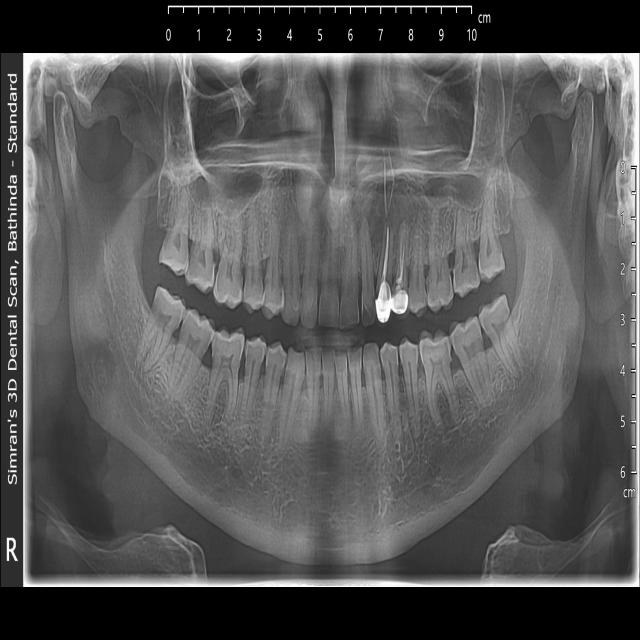Crown: (376, 281, 391, 325), (390, 288, 410, 319)
Mandibular Canal: (96, 254, 227, 495), (435, 246, 567, 481)
Root Canal Treatment: (381, 224, 390, 288), (397, 243, 404, 285), (399, 239, 402, 278)
maxillary sinus: (380, 52, 519, 214), (161, 53, 289, 218)
